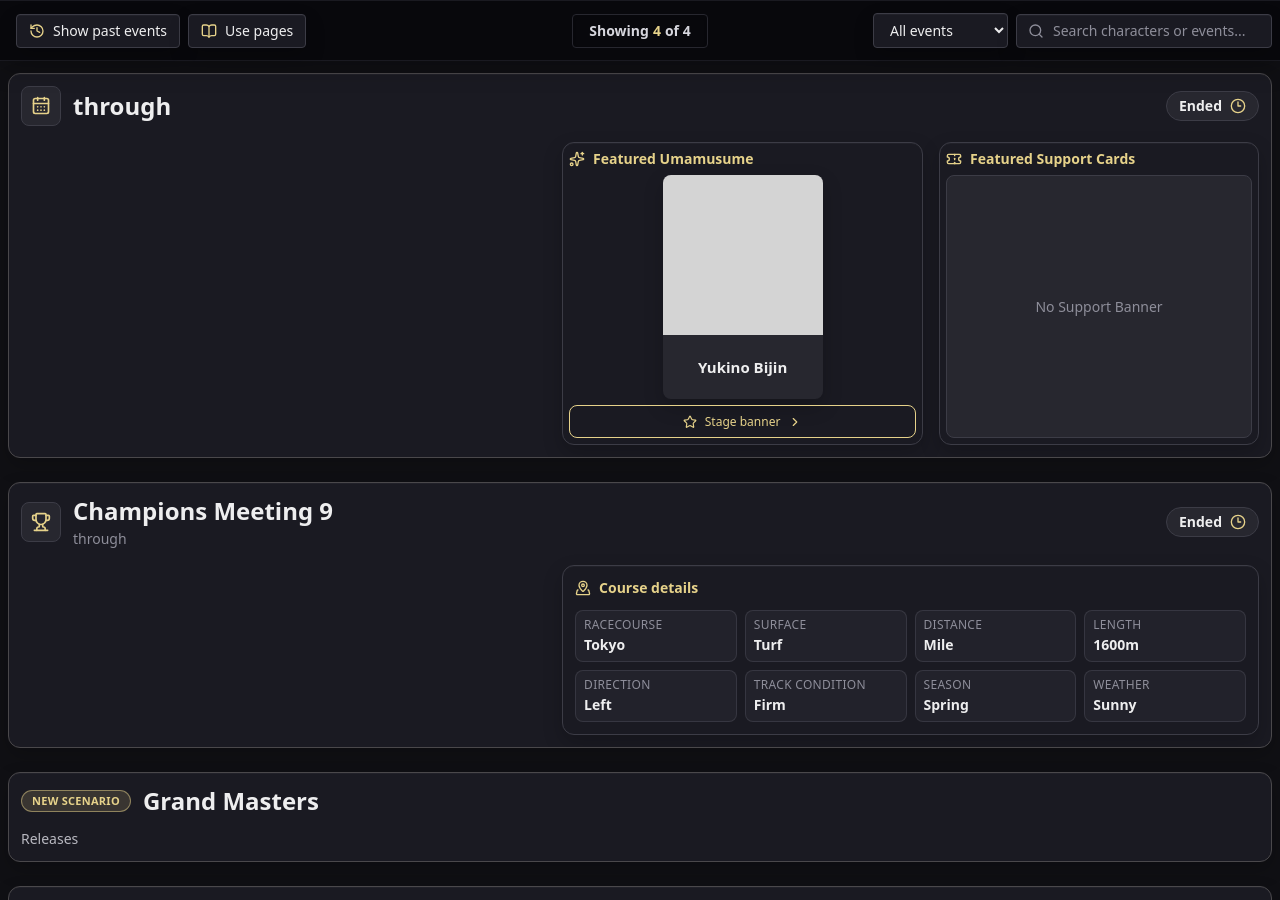
Timeline category filter › narrows to markers of one kind, dropping banners and the other kind
Expected: the text "Showing 4 of 4" is shown, top-left (572, 14), bottom-right (708, 48)
Select "Scenarios" in the dropdown named "filter events" at [940, 30], box top-left (873, 13), bottom-right (1008, 48)
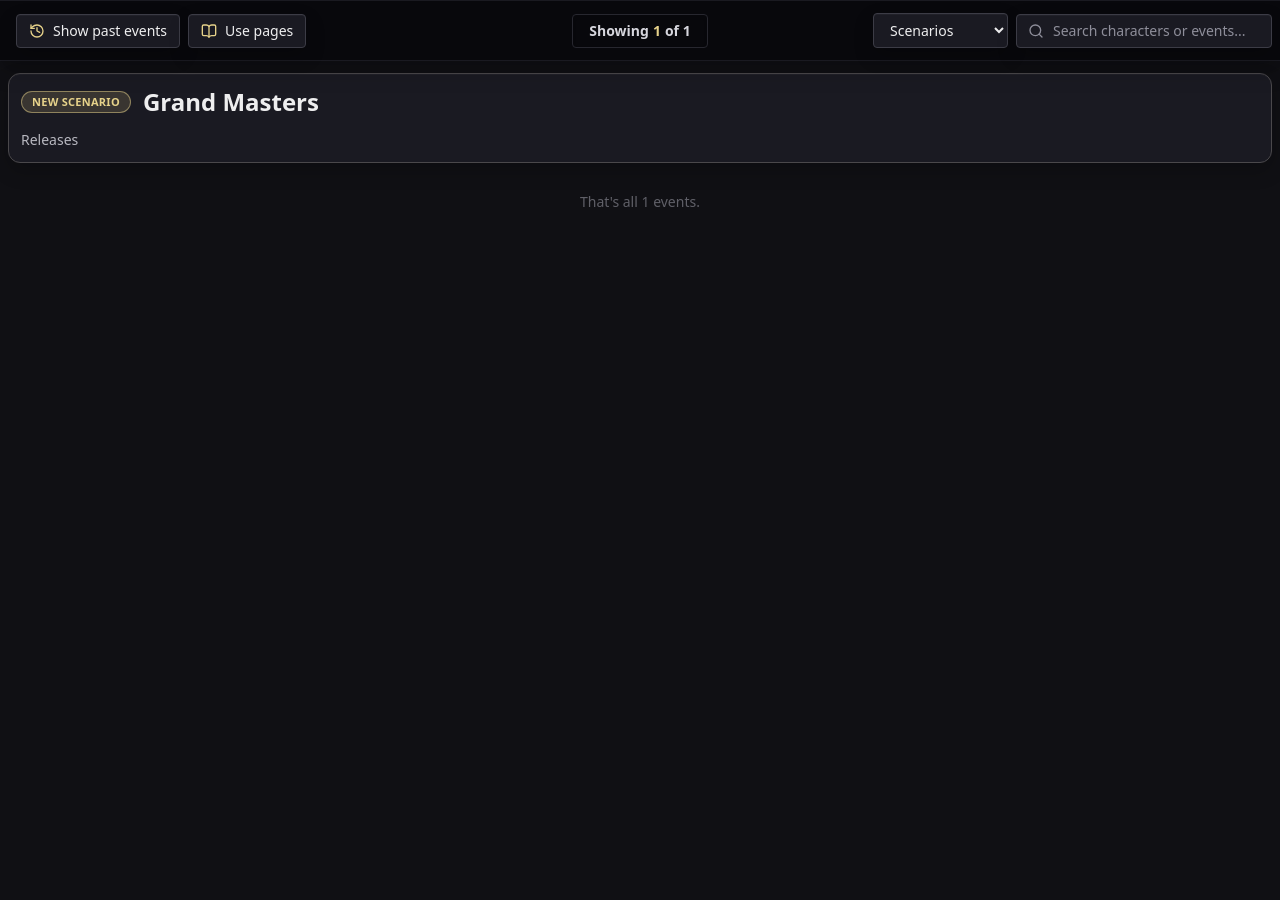
Expected: the text "Showing 1 of 1" is shown, top-left (572, 14), bottom-right (708, 48)
Expected: the text with alt text "Yukino Bijin" is gone
Expected: the heading "Champions Meeting 9" is gone
